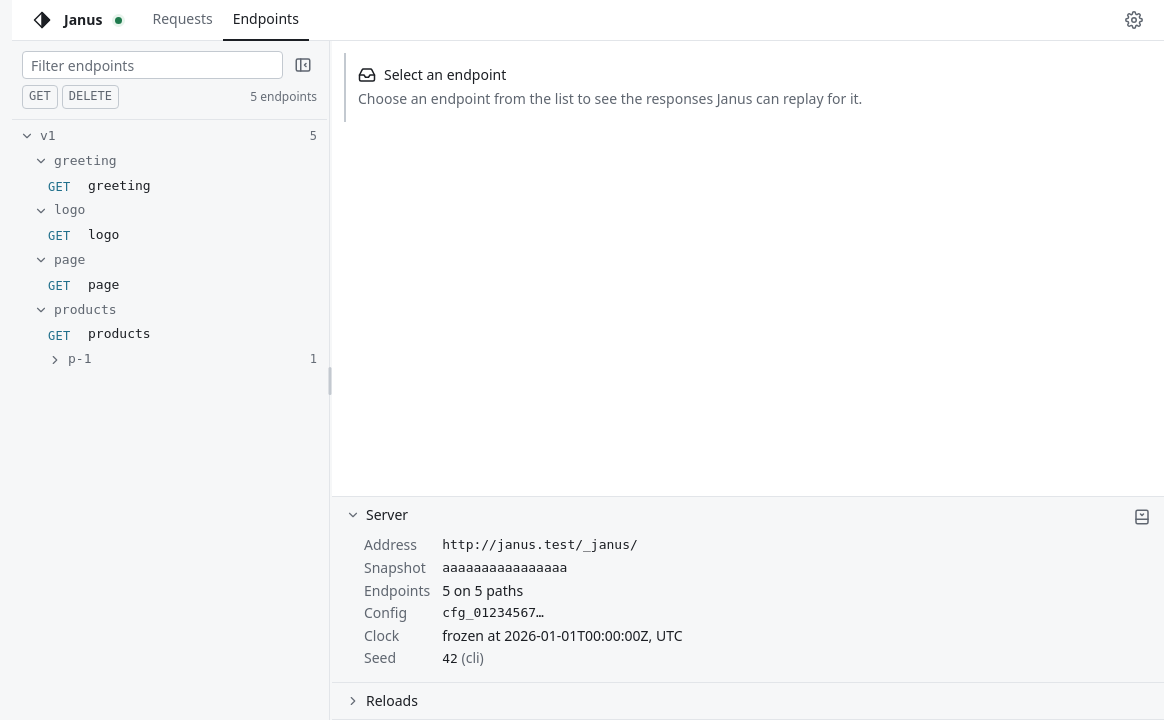
Test: App › labels a stale snapshot on the next navigation and refreshes coherently
Click the link with aria-label "GET /v1/greeting, scenario default" at (99, 186), box top-left (48, 178), bottom-right (151, 194)
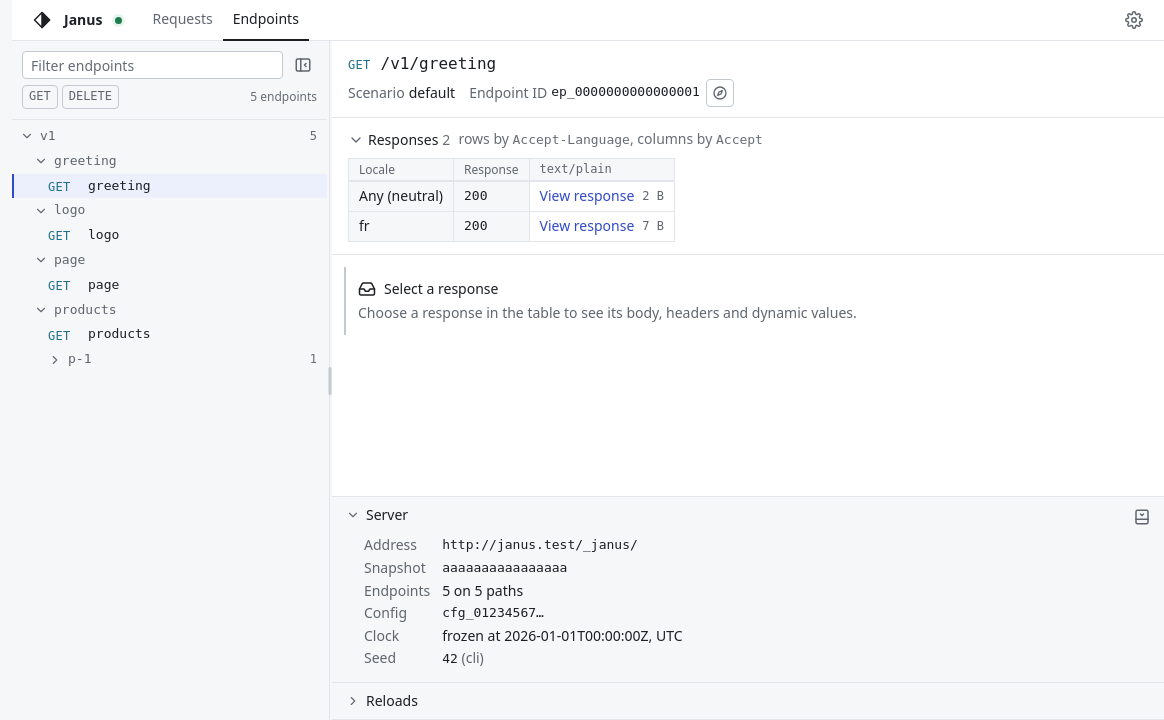
Click the link with aria-label "/v1/logo" at (104, 235), box top-left (48, 227), bottom-right (119, 243)
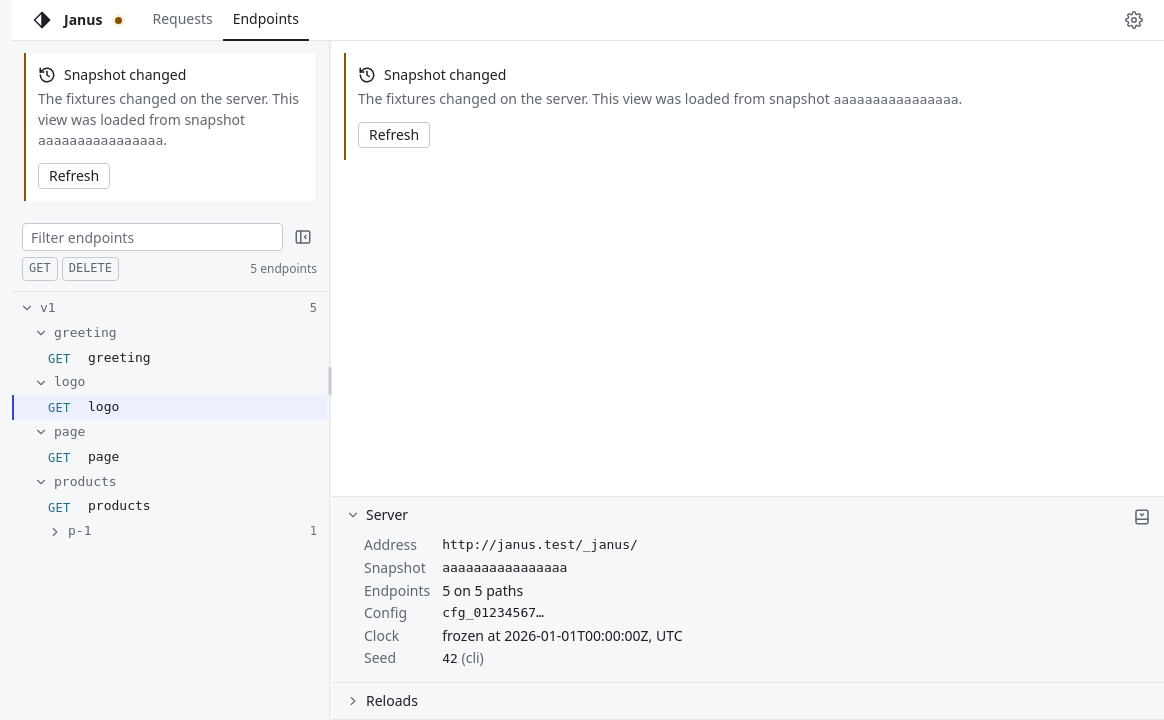
Now the 1st heading "Snapshot changed" is shown, box top-left (38, 65), bottom-right (186, 84)
Click the 1st button "Refresh" at (394, 135), box top-left (358, 122), bottom-right (430, 148)
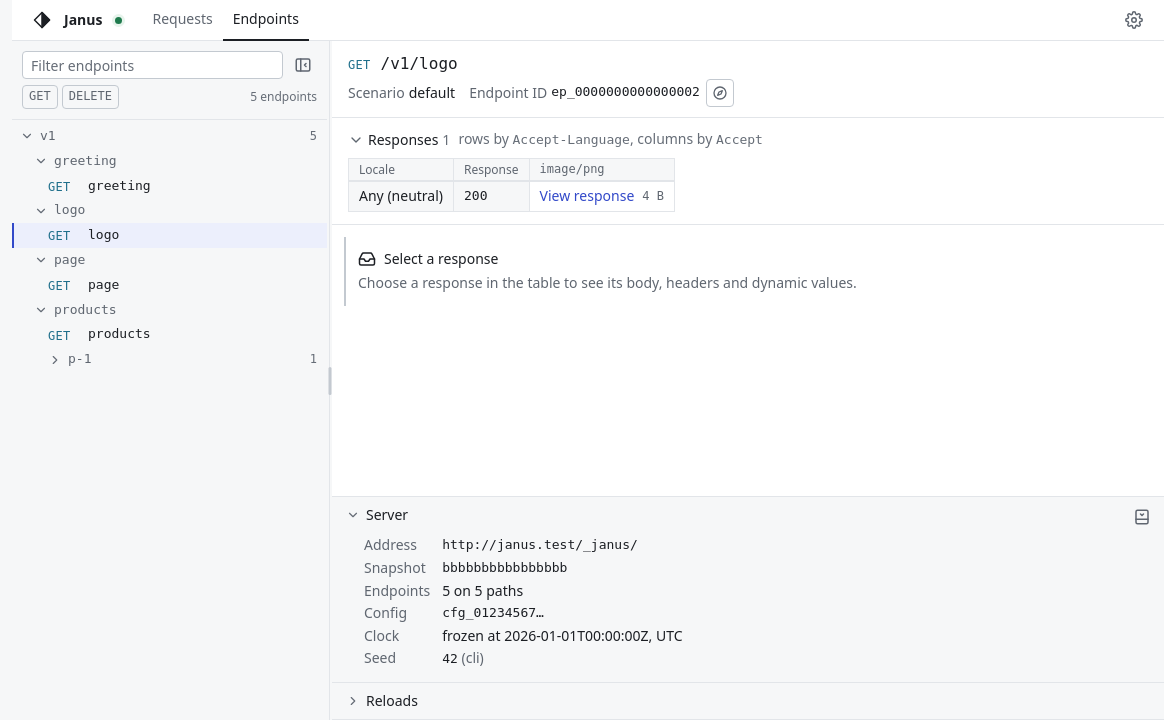
Now the heading "GET /v1/logo" is shown, box top-left (348, 54), bottom-right (458, 73)
Now the heading "Snapshot changed" is gone
